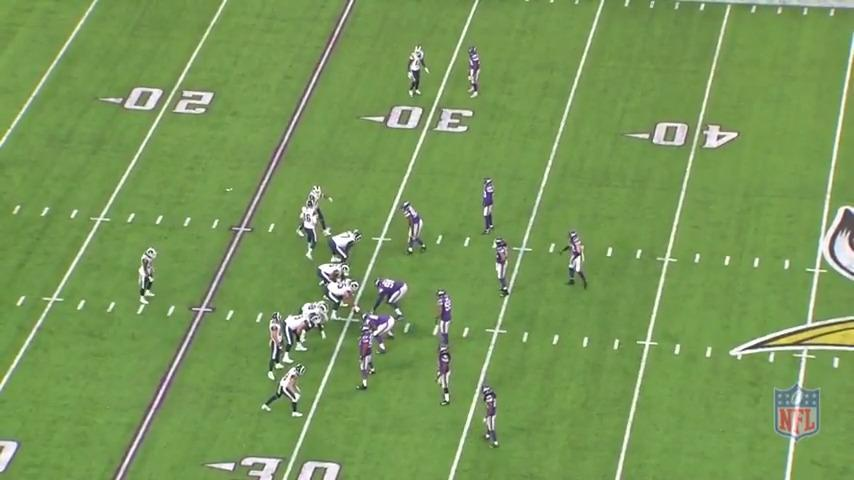defense: (477, 382, 502, 454), (370, 276, 409, 321), (563, 230, 590, 295), (355, 325, 380, 394), (400, 199, 429, 256), (436, 288, 459, 354), (490, 235, 513, 300), (432, 345, 455, 409), (362, 310, 397, 352), (477, 177, 499, 238), (465, 45, 485, 101)
oline: (325, 279, 364, 321), (282, 312, 316, 356), (296, 300, 330, 337), (314, 260, 349, 295), (331, 230, 363, 268)
qb: (295, 201, 325, 258)
skill: (262, 363, 306, 419), (300, 186, 333, 239), (263, 308, 286, 381), (136, 244, 161, 306), (402, 44, 427, 100)
